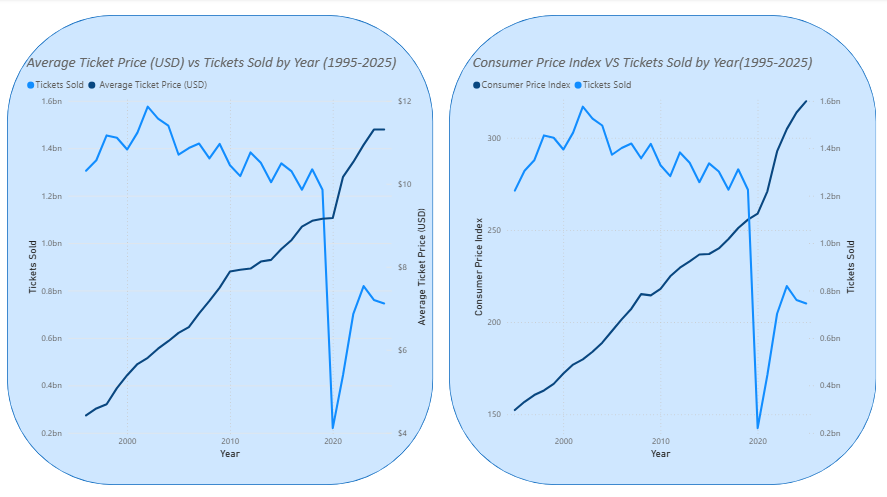

The dashboard page shown, as its layout file describes it:
{"tool":"powerbi","page":{"name":"Correlation ","canvas":[1280,720],"ordinal":4},"visuals":[{"type":"shape","box":[10.1,24.5,613.8,676.8],"z":0,"group":"g1"},{"type":"group","id":"g1","title":"Group 1","box":[10.1,24.5,1251.4,676.8],"z":0},{"type":"shape","box":[646,24.5,615.5,676.8],"z":1000,"group":"g1"},{"type":"lineChart","title":" Average Ticket Price (USD) vs Tickets Sold by Year (1995-2025)","fields":{"Category":["box_office_df.Year"],"Y":["Median(box_office_df.Tickets Sold)"],"Y2":["Median(box_office_df.Average Ticket Price (USD))"]},"box":[33.1,79.2,586.1,590.4],"z":1000},{"type":"lineChart","title":"Consumer Price Index VS Tickets Sold by Year(1995-2025)","fields":{"Category":["box_office_df.Year"],"Y":["Median(box_office_df.CPI)"],"Y2":["Median(box_office_df.Tickets Sold)"]},"box":[675.4,79.2,561.6,590.4],"z":2000},{"type":"image","box":[1203.7,0,76.3,60.5],"z":3000}]}

Visuals, with their boxes in screenshot pixels (x1, y1, x2, y2), scaled from the page's 1280x720 canvas onto the 887x497 screenshot:
shape: <box>7,17,432,484</box>
"Group 1" group: <box>7,17,874,484</box>
shape: <box>448,17,874,484</box>
" Average Ticket Price (USD) vs Tickets Sold by Year (1995-2025)" lineChart: <box>23,55,429,462</box>
"Consumer Price Index VS Tickets Sold by Year(1995-2025)" lineChart: <box>468,55,857,462</box>
image: <box>834,0,886,42</box>
